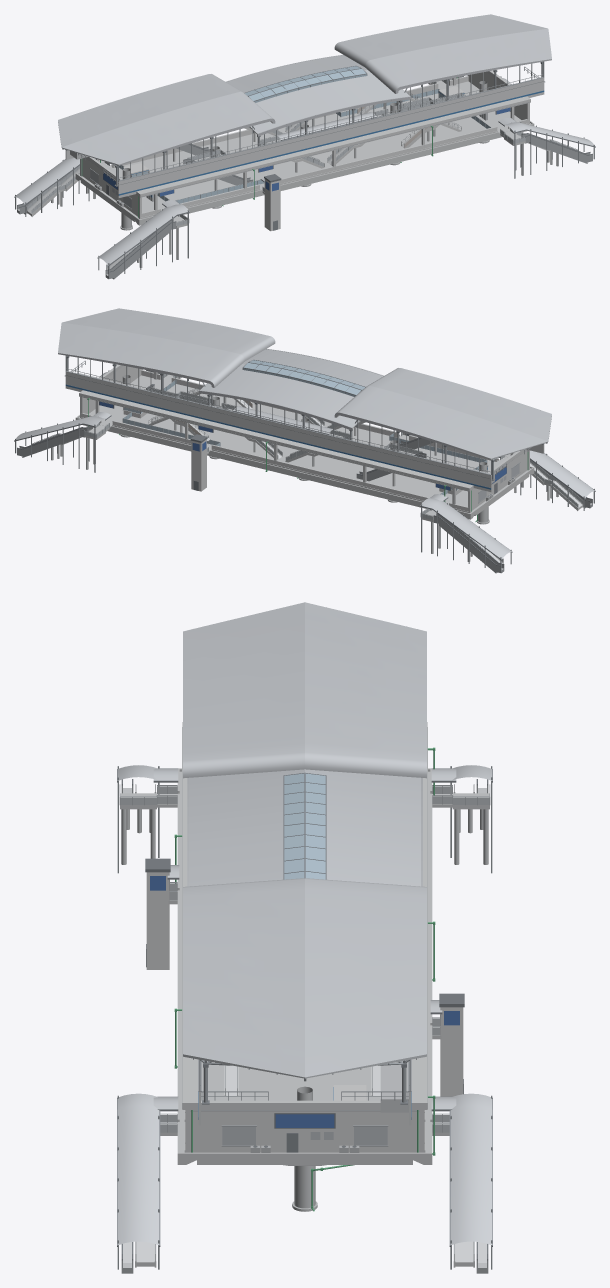
The picture shows the model from 3 angles, top to bottom: view 1: azimuth 30°, elevation 25°; view 2: azimuth 150°, elevation 25°; view 3: azimuth 270°, elevation 25°; orthographic projection. The views are drawn at different scales.
Parts seen in each view (by area): view 1: BL02, BL02_conc, BL02_access; view 2: BL02, BL02_conc, BL02_access; view 3: BL02, BL02_access, BL02_conc.
Part boxes in pixels (bbox=[...]): BL02: bbox=[58, 14, 551, 197]; BL02_conc: bbox=[75, 70, 534, 230]; BL02_access: bbox=[14, 75, 595, 279]; BL02: bbox=[58, 308, 551, 491]; BL02_conc: bbox=[75, 364, 534, 524]; BL02_access: bbox=[14, 369, 595, 573]; BL02: bbox=[183, 602, 426, 1125]; BL02_access: bbox=[117, 747, 492, 1273]; BL02_conc: bbox=[177, 722, 432, 1211].
Bounding box in the file's own units: 127 × 28 × 42.5.
